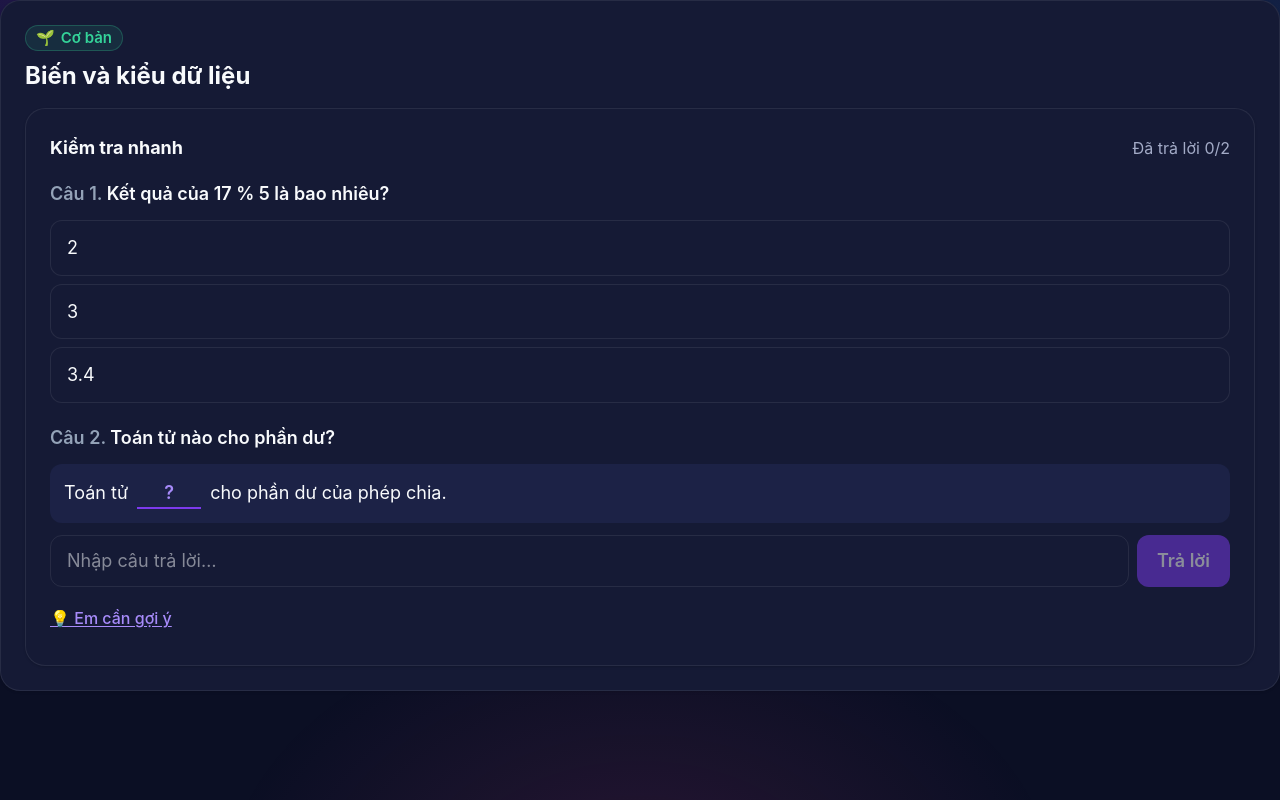
Test case: Bài trắc nghiệm › máy chủ từ chối vì đã có câu trả lời (hetLuot) → chỉ hiện thông báo khoá, không hiện kết quả
Click the button "2" at (72, 247), box [50,220,1230,276]
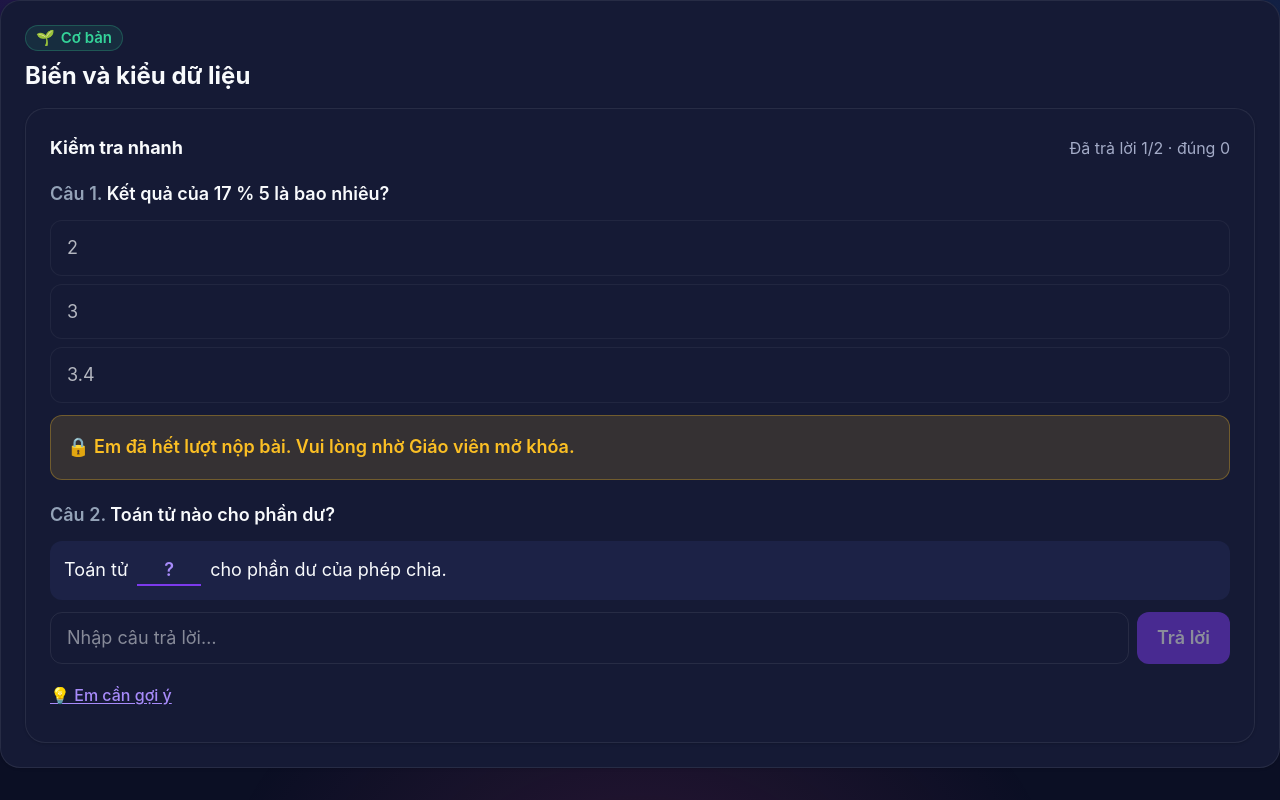
Expected: the message shows "Em đã hết lượt nộp bài. Vui lòng nhờ Giáo viên mở khóa.", [94,436,575,457]
Expected: the button "2" is disabled, [50,220,1230,276]
